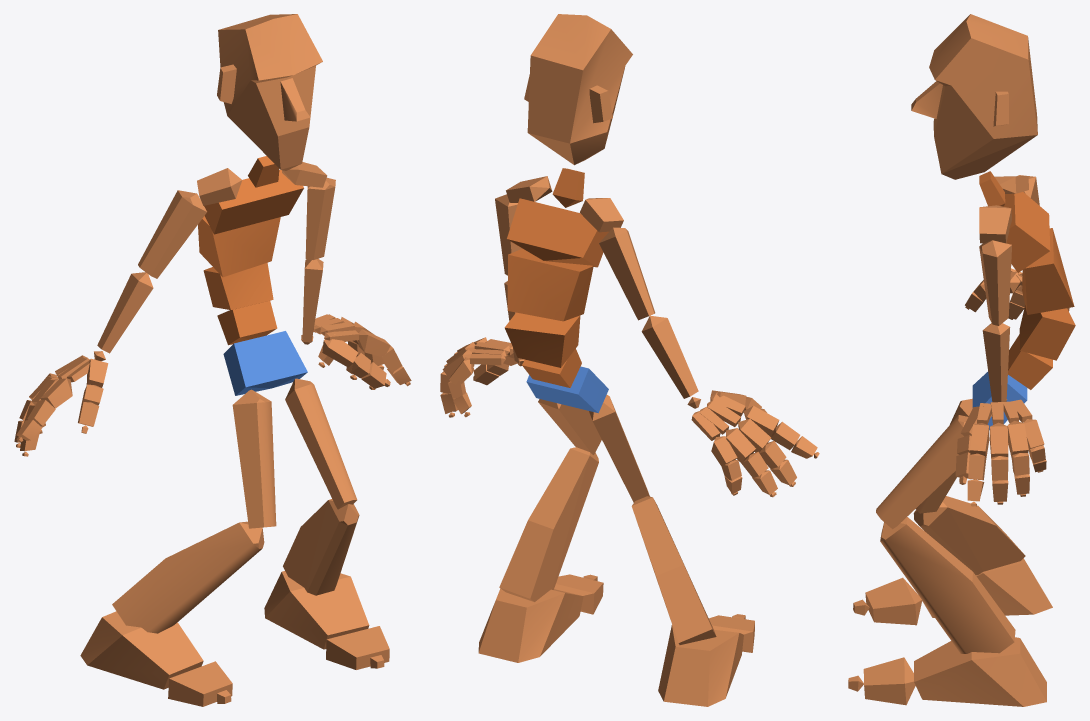
3 renders of one model, left to right at view 1: azimuth 30°, elevation 25°; view 2: azimuth 150°, elevation 25°; view 3: azimuth 270°, elevation 25°, orthographic. The views are drawn at different scales.
Visible parts, largest first — view 1: BOPED_Head, BOPED_R_leg, BOPED_R_foot, BOPED_R_foot01, BOPED_L_leg, BOPED_R_legup, BOPED_L_legup, Bone01, Bone04, Bone05, BOPED_R_arm_upper, Bone03 (+10 smaller); view 2: BOPED_Head, BOPED_L_leg, BOPED_R_foot01, BOPED_R_foot, BOPED_R_leg, Bone04, Bone05, Bone03, BOPED_R_arm_upper, BOPED_R_legup, BOPED_R_arm_fore, Bone01 (+10 smaller); view 3: BOPED_Head, BOPED_L_leg, BOPED_R_foot01, BOPED_R_leg, BOPED_L_legup, BOPED_R_foot, Bone05, Bone04, Bone03, BOPED_L_arm_upper, BOPED_R_foot_toe01, BOPED_R_foot_toe04 (+14 smaller).
Part boxes in pixels (x1,y1,x2,y2): BOPED_Head: (217,14,322,170); BOPED_R_leg: (112,521,264,633); BOPED_R_foot: (80,611,203,689); BOPED_R_foot01: (264,571,369,649); BOPED_L_leg: (283,499,359,595); BOPED_R_legup: (232,389,276,528); BOPED_L_legup: (285,378,357,509); Bone01: (223,331,307,395); Bone04: (198,216,280,277); Bone05: (204,170,303,234); BOPED_R_arm_upper: (138,190,206,278); Bone03: (203,262,273,309); BOPED_Head: (524,14,632,165); BOPED_L_leg: (499,447,598,601); BOPED_R_foot01: (478,588,583,662); BOPED_R_foot: (658,625,743,706); BOPED_R_leg: (631,496,716,644); Bone04: (507,249,593,321); Bone05: (507,198,608,267); Bone03: (504,312,580,367); BOPED_R_arm_upper: (599,227,655,320); BOPED_R_legup: (589,395,649,502); BOPED_R_arm_fore: (641,315,698,398); Bone01: (526,366,608,413); BOPED_Head: (911,14,1037,179); BOPED_L_leg: (880,517,1015,653); BOPED_R_foot01: (914,637,1046,706); BOPED_R_leg: (913,496,1025,574); BOPED_L_legup: (876,415,968,529); BOPED_R_foot: (922,558,1052,617); Bone05: (1004,192,1050,272); Bone04: (1022,228,1074,314); Bone03: (1019,305,1075,360); BOPED_L_arm_upper: (979,240,1011,325); BOPED_R_foot_toe01: (865,577,922,625); BOPED_R_foot_toe04: (863,657,915,705).
Size of the model in its own units: 114 by 177 by 56.5.
